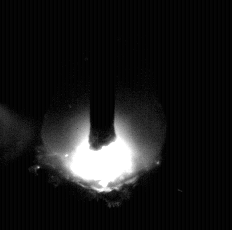arame: (91, 0, 116, 150)
poca: (40, 0, 166, 230)
